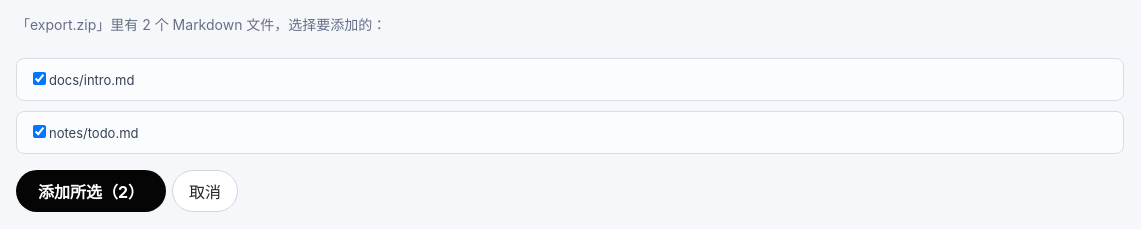
Test: BundleChoicePanel › 列出压缩包名与全部候选，默认全选，可分别取消勾选
Expected: the text "「export.zip」里有 2 个 Markdown 文件，选择要添加的：" is shown, [16,16,386,33]
Expected: the checkbox labelled "notes/todo.md" is checked, [33,125,46,138]
Click the checkbox labelled "docs/intro.md" at (40, 79), box [33,72,46,85]
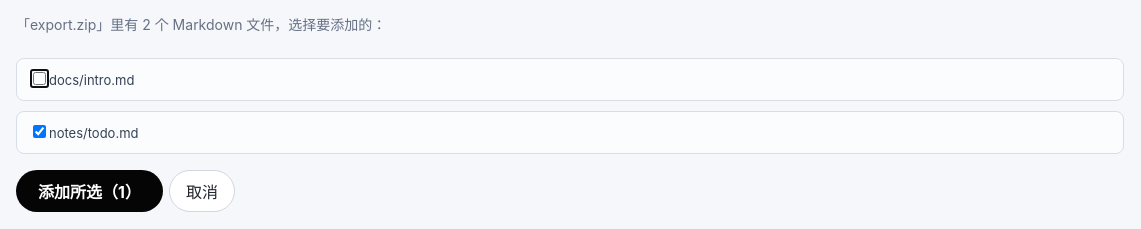
Expected: the checkbox labelled "docs/intro.md" is not checked, [33,72,46,85]
Expected: the button "添加所选（1）" is shown, [16,170,163,212]
